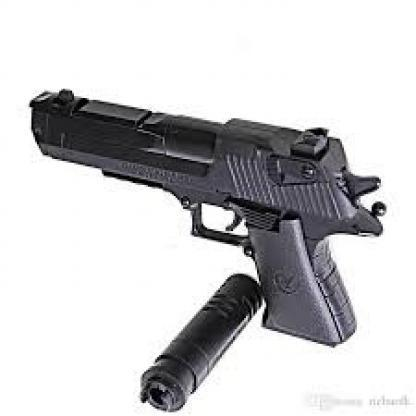Pistol: (0, 70, 400, 352)
